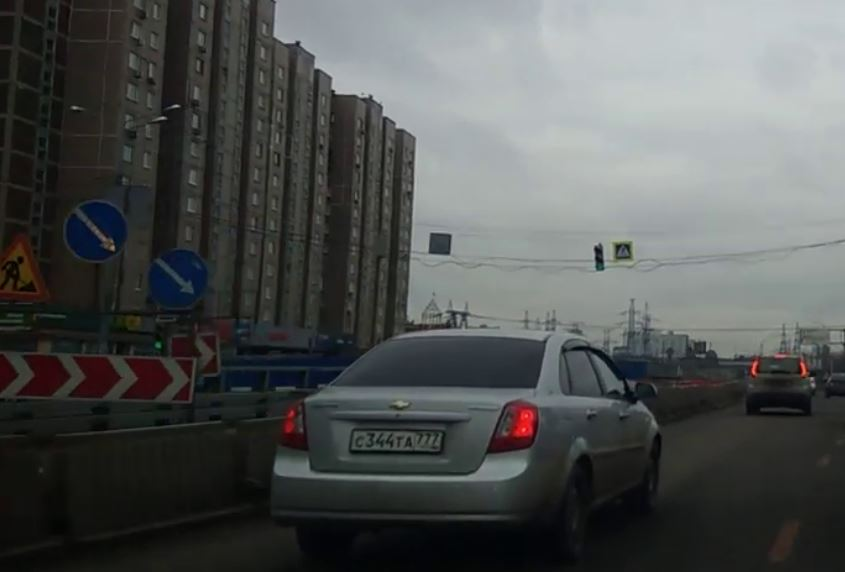Sagdan Git: (151, 246, 204, 314)
